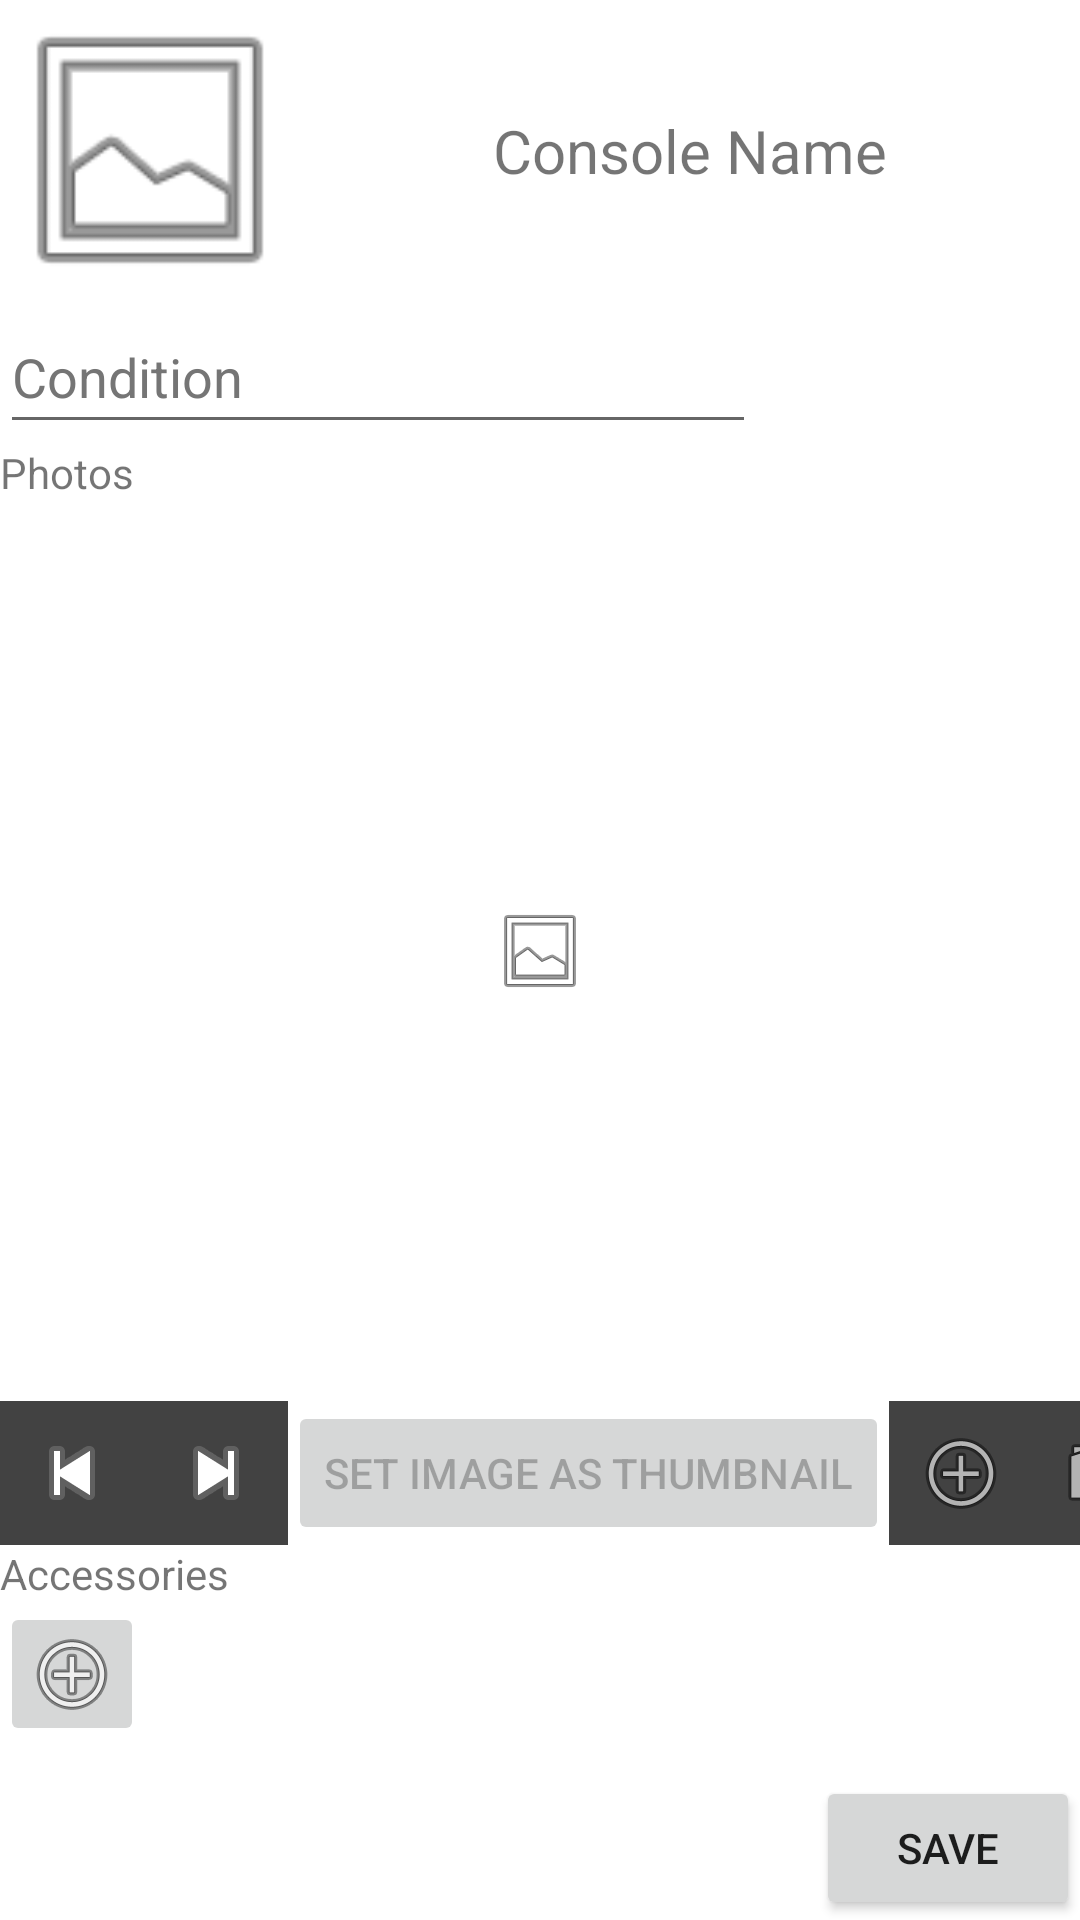

Where icons sit on this 1080 × 1920 app screen, as {"left": x1, "top": y1, "right": x2, "bottom": y2}:
Add accessory: {"left": 12, "top": 1620, "right": 132, "bottom": 1728}
Add image: {"left": 889, "top": 1401, "right": 1033, "bottom": 1545}
Next image: {"left": 144, "top": 1401, "right": 288, "bottom": 1545}
Previous image: {"left": 49, "top": 1446, "right": 95, "bottom": 1500}
